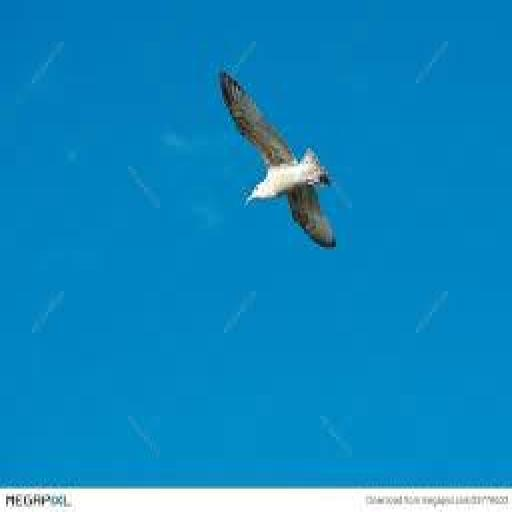birds: (218, 72, 336, 250)
